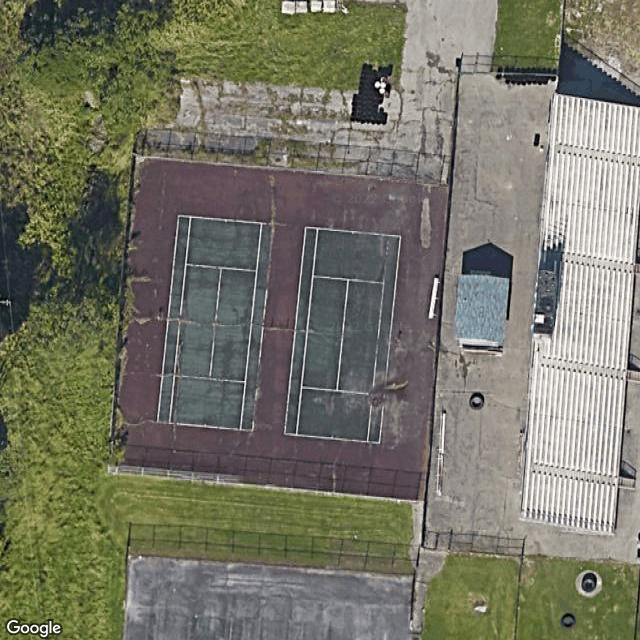Court: (283, 224, 402, 444), (155, 214, 274, 433)
